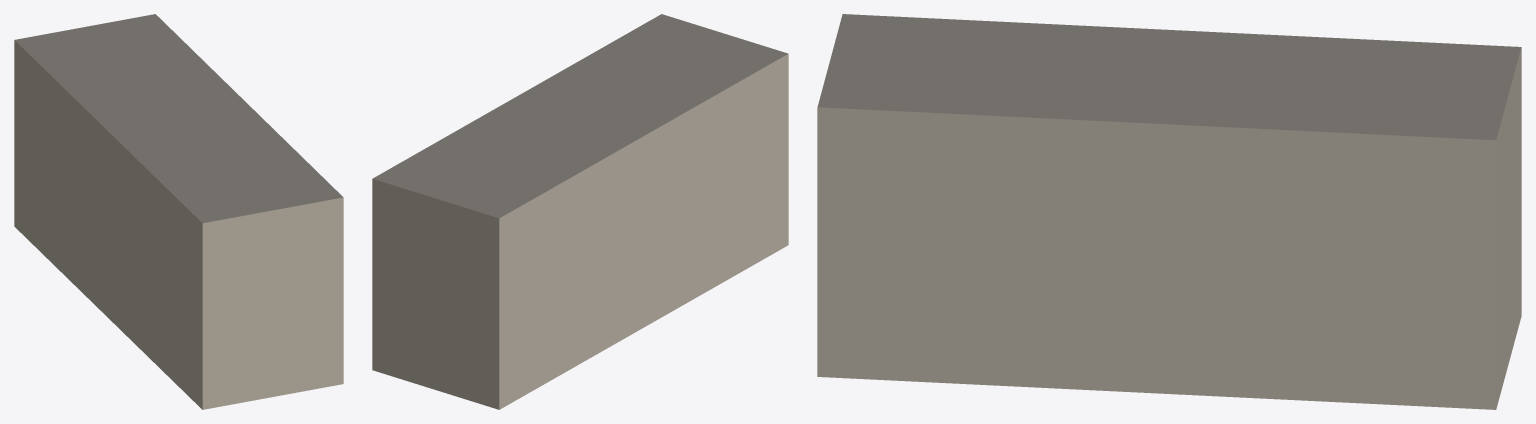
3 views of the same model, side by side, from view 1: azimuth 30°, elevation 25°; view 2: azimuth 150°, elevation 25°; view 3: azimuth 270°, elevation 25° (orthographic). The views are drawn at different scales.
Parts seen in each view (by area): view 1: HP-w859447862; view 2: HP-w859447862; view 3: HP-w859447862.
Part boxes in pixels (x1,y1,x2,y2): HP-w859447862: (14,14,343,409); HP-w859447862: (372,14,788,409); HP-w859447862: (817,14,1521,409).
Size of the model in its own units: 18.09 by 18 by 42.6.
